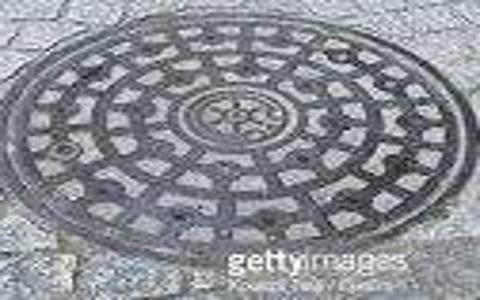proper manhole: (1, 4, 473, 270)
